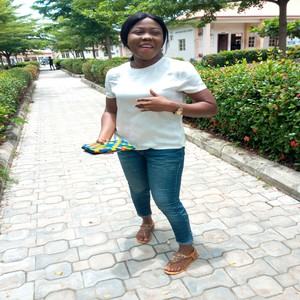Fulokoja_female_student: (119, 12, 203, 272)
